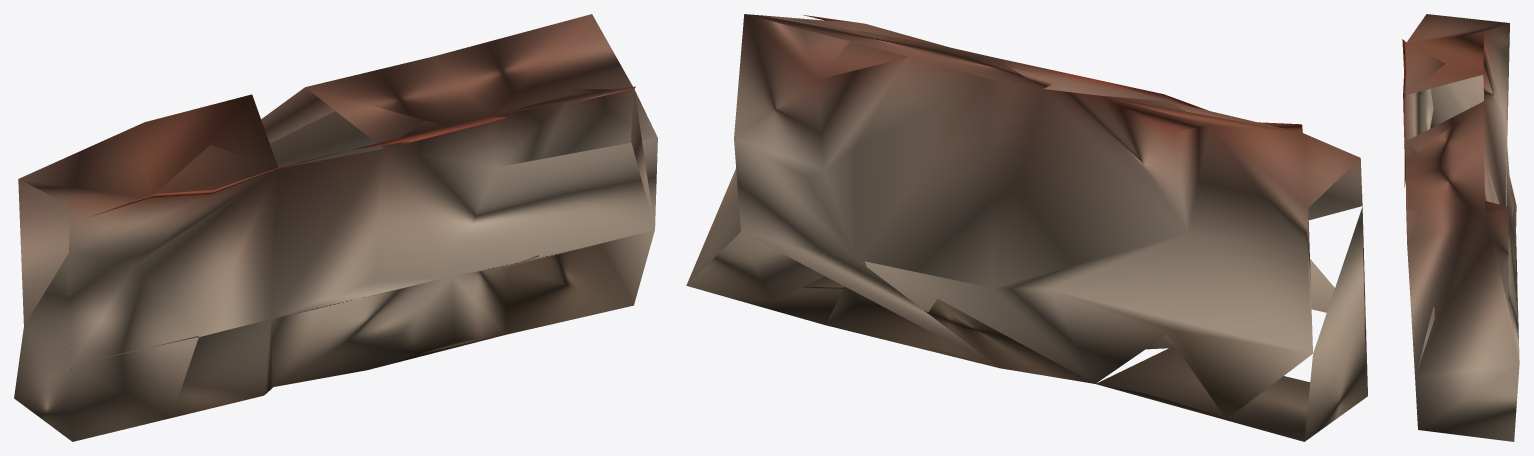
Rendered from decor_garden-wall_t1_plaster.trellis.glb.
3 renders of one model, left to right at view 1: azimuth 30°, elevation 25°; view 2: azimuth 150°, elevation 25°; view 3: azimuth 270°, elevation 25°, orthographic. The views are drawn at different scales.
Visible parts, largest first — view 1: world; view 2: world; view 3: world.
Boxes of the visible parts, left/top/right/bottom form: world: left=14, top=14, right=657, bottom=441; world: left=686, top=14, right=1367, bottom=441; world: left=1402, top=14, right=1519, bottom=441.
Bounding box in the file's own units: 1.97 × 0.8373 × 0.4071.
